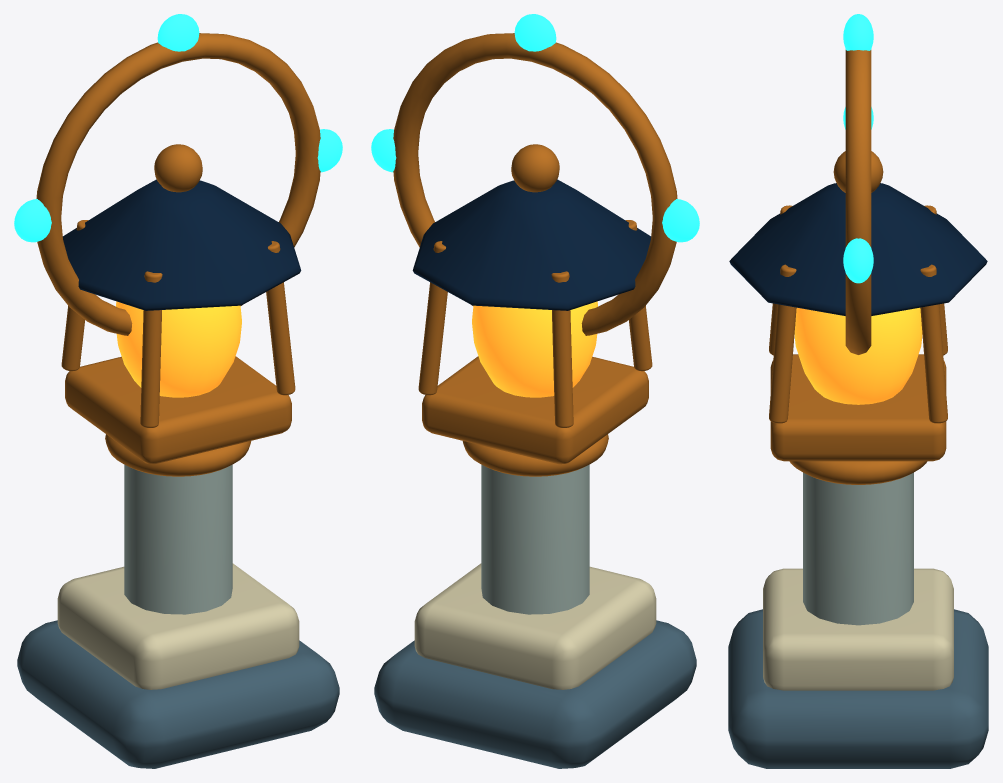
Rendered from royal_lantern.glb.
3 renders of one model, left to right at view 1: azimuth 30°, elevation 25°; view 2: azimuth 150°, elevation 25°; view 3: azimuth 270°, elevation 25°, orthographic.
Parts seen in each view (by area): view 1: royal_foot, royal_hat, royal_base, royal_halo, royal_pillar, royal_lower, royal_glowing_core, royal_collar, royal_cage, royal_cage.002, royal_finial, royal_orbit_star.002 (+3 smaller); view 2: royal_foot, royal_hat, royal_base, royal_halo, royal_pillar, royal_lower, royal_glowing_core, royal_collar, royal_cage.001, royal_cage.003, royal_finial, royal_orbit_star.002 (+3 smaller); view 3: royal_foot, royal_hat, royal_base, royal_pillar, royal_lower, royal_glowing_core, royal_halo, royal_cage.002, royal_cage.003, royal_collar, royal_orbit_star, royal_orbit_star.001 (+1 smaller).
Part boxes in pixels (<box>): royal_foot: <box>17,620,339,768</box>; royal_hat: <box>62,179,301,310</box>; royal_base: <box>57,563,299,689</box>; royal_halo: <box>36,33,320,335</box>; royal_pillar: <box>124,464,232,614</box>; royal_lower: <box>65,356,291,464</box>; royal_glowing_core: <box>116,301,241,397</box>; royal_collar: <box>105,434,251,476</box>; royal_cage: <box>140,271,162,427</box>; royal_cage.002: <box>266,241,295,395</box>; royal_finial: <box>154,144,202,192</box>; royal_orbit_star.002: <box>14,199,51,242</box>; royal_foot: <box>374,620,696,768</box>; royal_hat: <box>412,179,651,310</box>; royal_base: <box>414,563,656,689</box>; royal_halo: <box>393,33,677,335</box>; royal_pillar: <box>481,464,589,614</box>; royal_lower: <box>422,356,648,464</box>; royal_glowing_core: <box>472,301,597,397</box>; royal_collar: <box>462,434,608,476</box>; royal_cage.001: <box>551,271,573,427</box>; royal_cage.003: <box>418,241,447,395</box>; royal_finial: <box>511,144,559,192</box>; royal_orbit_star.002: <box>662,199,699,242</box>; royal_foot: <box>728,609,988,768</box>; royal_hat: <box>729,183,987,315</box>; royal_base: <box>763,568,953,690</box>; royal_pillar: <box>803,472,913,625</box>; royal_lower: <box>770,354,946,461</box>; royal_glowing_core: <box>794,307,922,404</box>; royal_halo: <box>845,50,871,354</box>; royal_cage.002: <box>769,264,796,423</box>; royal_cage.003: <box>920,264,947,423</box>; royal_collar: <box>789,461,927,484</box>; royal_orbit_star: <box>843,238,873,283</box>; royal_orbit_star.001: <box>843,14,873,50</box>.
Size of the model in its own units: 1 by 2.05 by 0.68.
